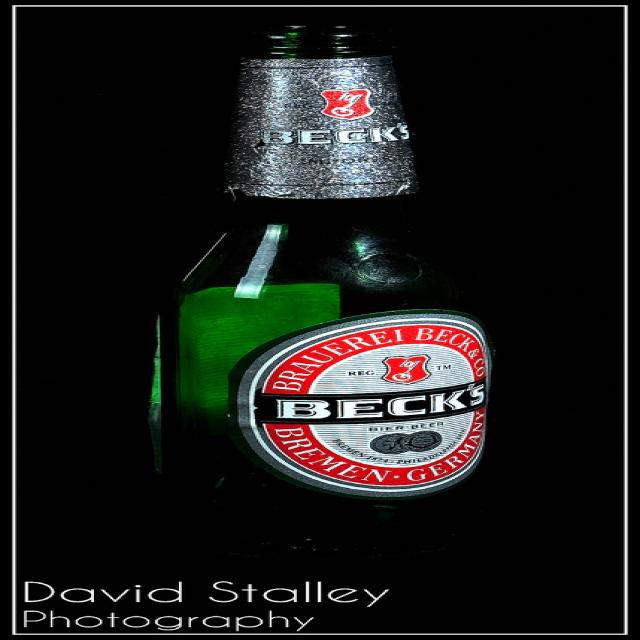becks: (238, 315, 496, 497)
